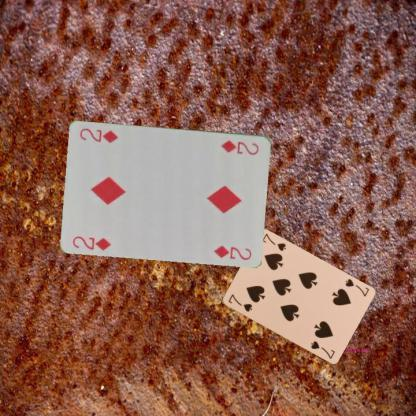2d: (70, 233, 112, 252), (219, 138, 261, 156)
7s: (225, 291, 253, 313), (342, 276, 370, 298)
